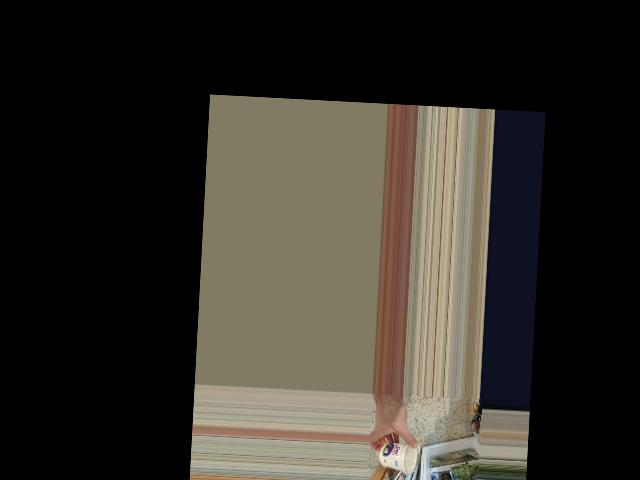cotage: (378, 438, 418, 475)
